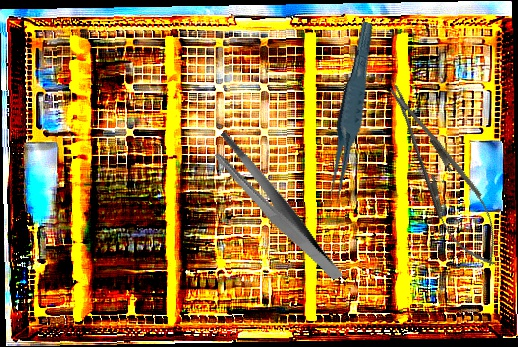Dressing Forceps: (207, 112, 344, 304)
Needle Holder: (372, 74, 514, 277)
Tissue Forceps: (313, 20, 388, 207)
